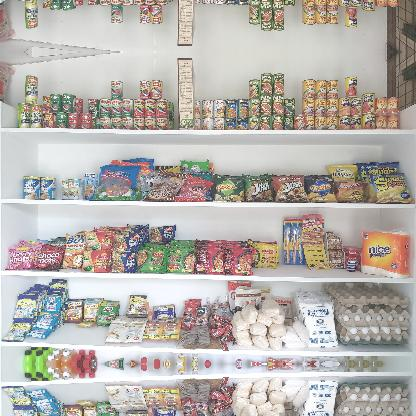Koko-Krunch: (178, 57, 194, 129), (177, 0, 195, 48)
